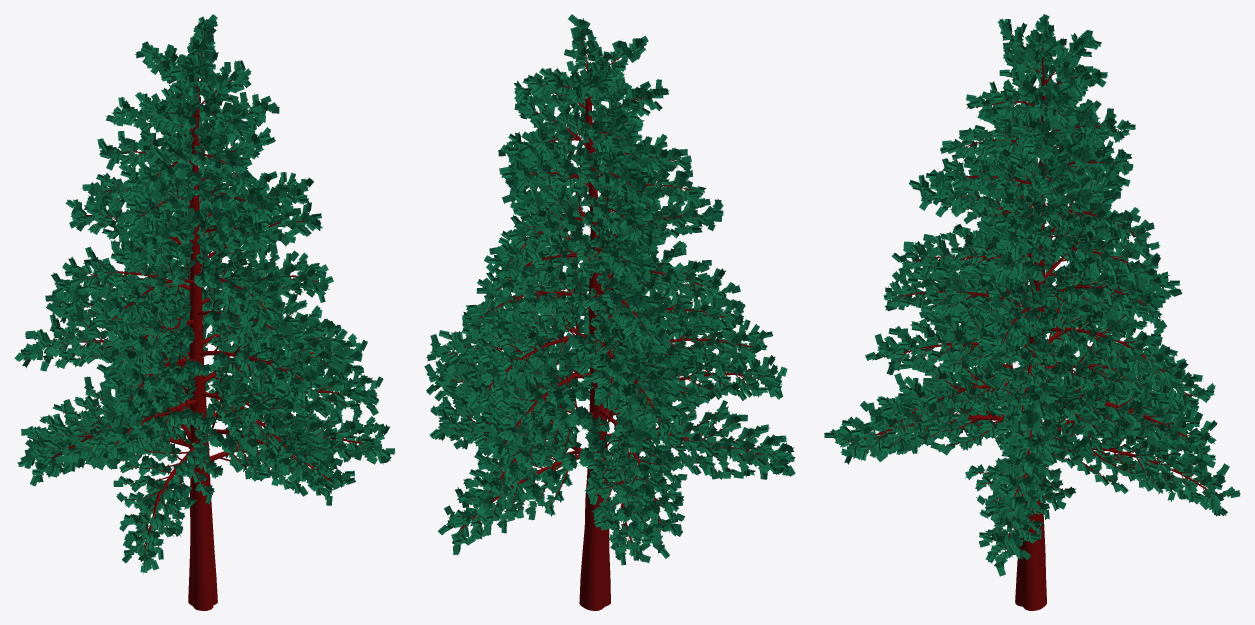
The model's file is PineTree 1.FBX.
The picture shows the model from 3 angles, left to right: view 1: azimuth 30°, elevation 25°; view 2: azimuth 150°, elevation 25°; view 3: azimuth 270°, elevation 25°; orthographic projection. The views are drawn at different scales.
Parts seen in each view (by area): view 1: Foliage001; view 2: Foliage001; view 3: Foliage001.
Boxes of the visible parts, <box> form: Foliage001: <box>14,14,395,610</box>; Foliage001: <box>424,14,795,610</box>; Foliage001: <box>824,14,1240,610</box>.
Size of the model in its own units: 381 by 660 by 421.
